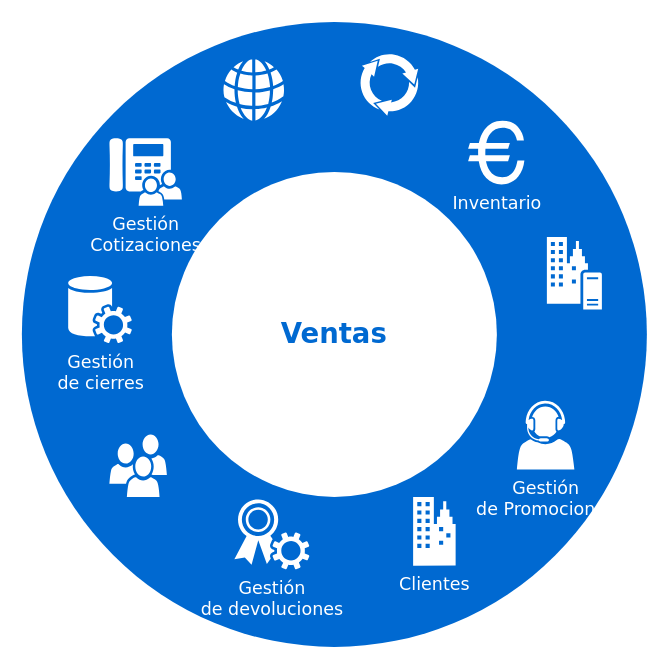
Some shapes in this 668 by 668 pixel diagram are drawn without their labels. The shapes that lost their labels are listed below. From the top down, each one's centre as x and y in pixels, then its label:
At point (253, 89): "Reportes".
At point (389, 83): "Factura".
At point (573, 272): "Pedidos".
At point (137, 465): "Monedas".
